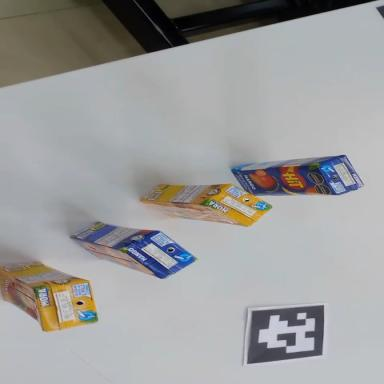HIT-MANGO: (68, 218, 199, 283), (232, 154, 363, 197)
HIT-MORA: (0, 254, 98, 337), (141, 183, 271, 226)
